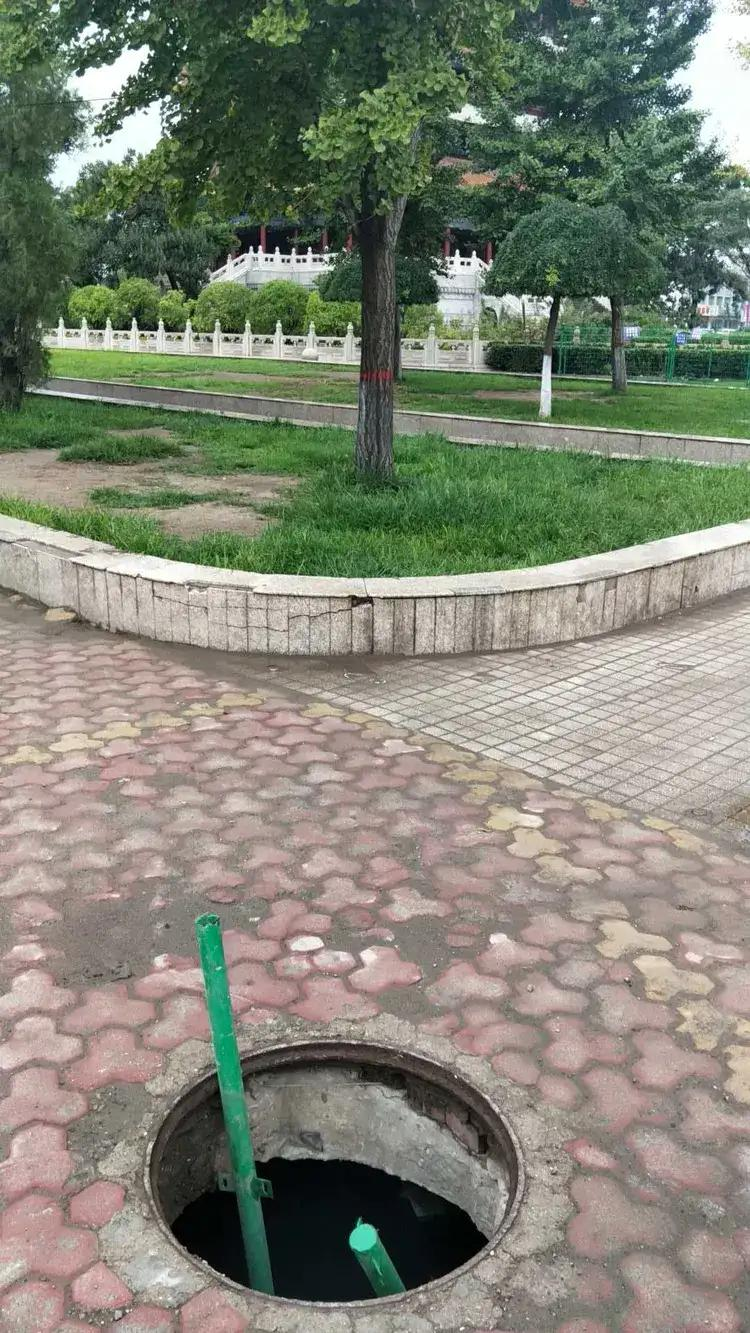wellcover: (122, 977, 563, 1333)
